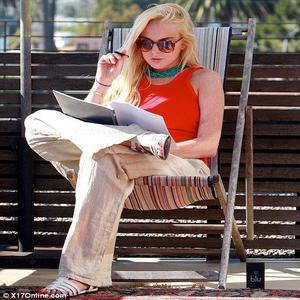cigarette: (109, 46, 133, 60)
